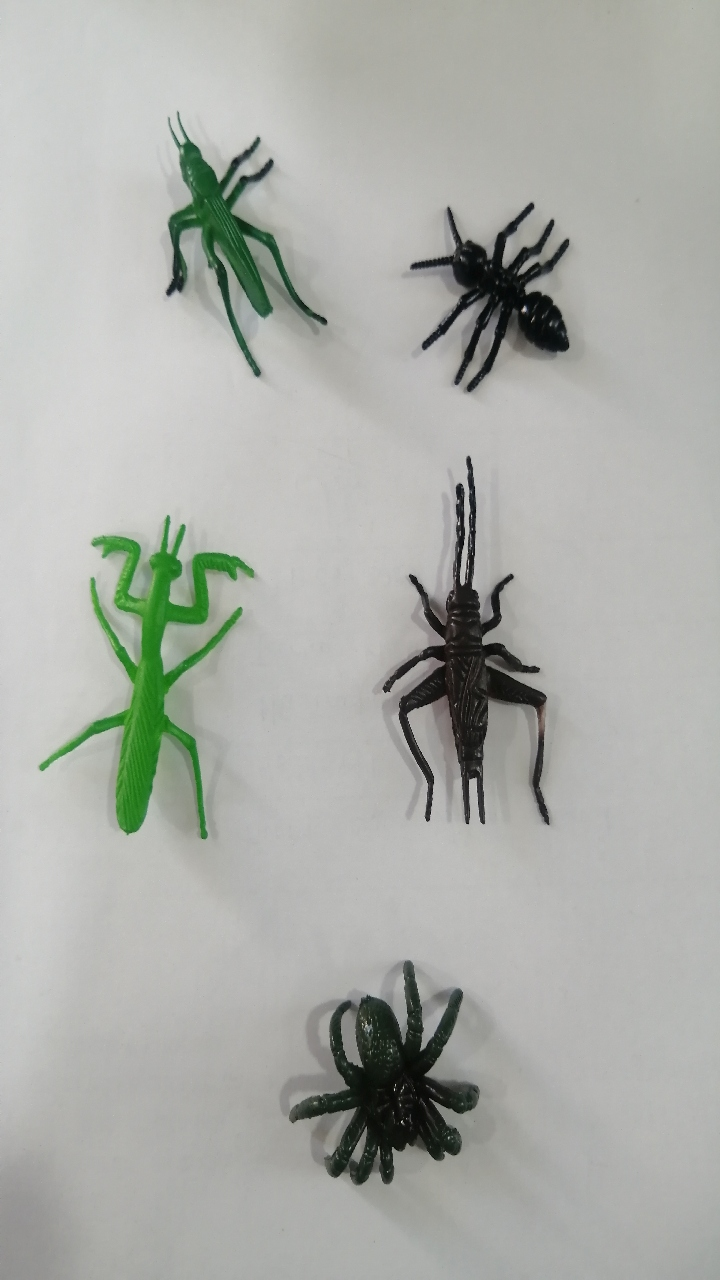intruso: (355, 437, 574, 862), (21, 488, 266, 852), (255, 926, 506, 1215), (129, 91, 352, 405), (364, 154, 606, 428)
